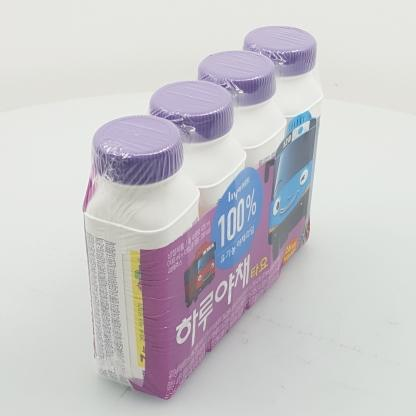-------------400ML: (82, 25, 324, 400)
